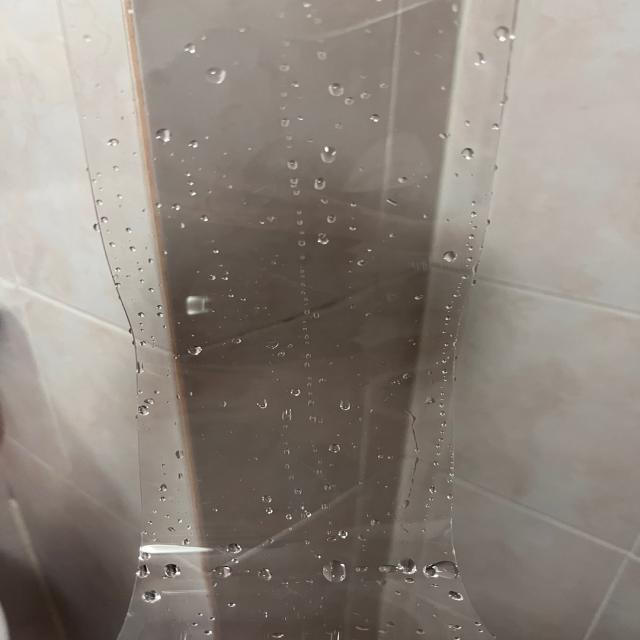raindrop: (491, 20, 527, 46), (211, 63, 240, 90), (432, 244, 464, 264), (429, 563, 464, 581), (180, 294, 210, 314), (163, 562, 187, 583), (318, 149, 344, 167), (144, 590, 172, 605), (322, 564, 352, 578), (341, 399, 362, 418), (457, 143, 478, 162), (307, 232, 328, 250), (469, 44, 491, 61), (144, 200, 164, 217), (398, 556, 414, 576), (324, 439, 343, 455), (446, 590, 466, 605), (258, 488, 278, 502), (332, 79, 348, 96), (306, 180, 328, 192), (282, 157, 300, 171), (282, 512, 302, 524), (356, 91, 374, 104), (182, 345, 203, 356), (226, 600, 247, 611), (257, 572, 277, 583), (182, 136, 200, 148), (367, 113, 386, 124), (252, 400, 269, 412), (291, 386, 306, 399), (137, 308, 153, 320), (398, 169, 417, 179), (215, 565, 232, 576), (222, 543, 235, 557), (134, 407, 150, 418), (135, 565, 152, 575), (341, 98, 358, 108), (110, 134, 124, 146), (128, 244, 144, 254), (156, 129, 170, 140), (333, 532, 347, 543), (199, 210, 214, 220), (143, 399, 159, 406), (198, 626, 216, 632)
